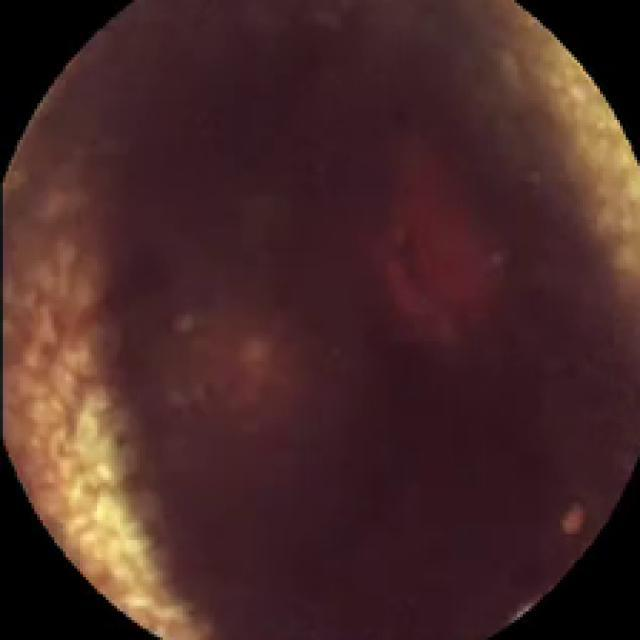bleeding: (388, 175, 486, 332)
